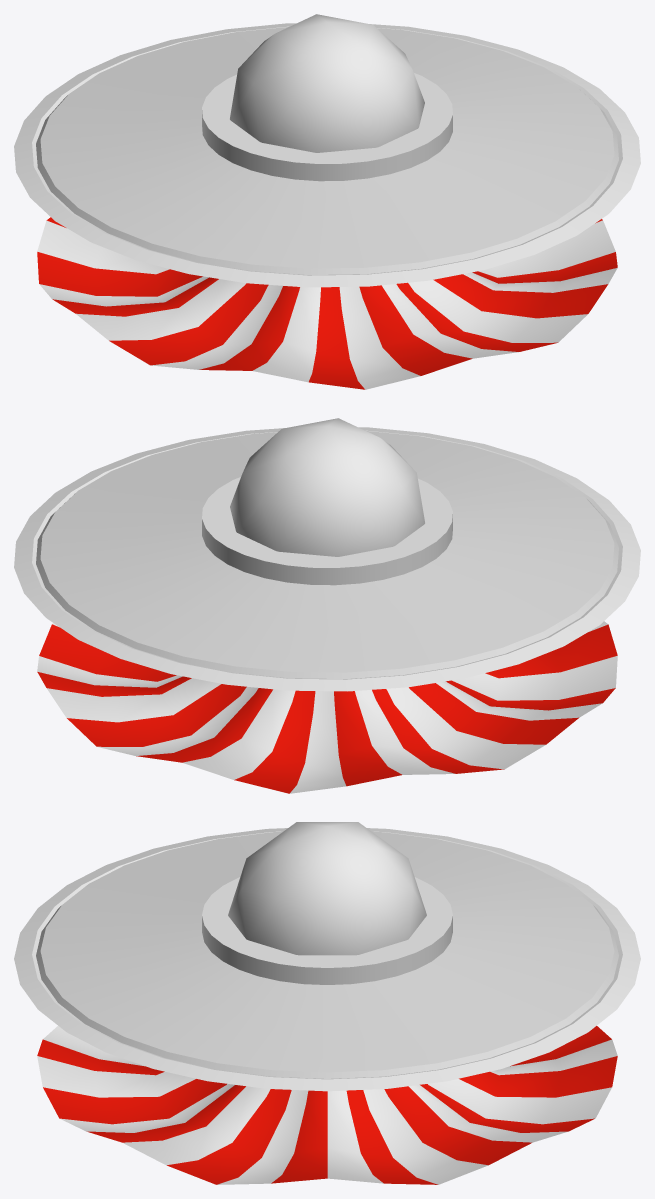
The model's file is UFO_Stand.fbx.
The picture shows the model from 3 angles, top to bottom: view 1: azimuth 30°, elevation 25°; view 2: azimuth 150°, elevation 25°; view 3: azimuth 270°, elevation 25°; orthographic projection.
Visible parts, largest first — view 1: Circle, Circle.001, Icosphere; view 2: Circle, Circle.001, Icosphere; view 3: Circle, Circle.001, Icosphere.
Part boxes in pixels (x1,y1,x2,y2): Circle: [14, 23, 640, 287]; Circle.001: [37, 217, 617, 389]; Icosphere: [230, 14, 424, 152]; Circle: [14, 427, 640, 691]; Circle.001: [37, 621, 617, 793]; Icosphere: [230, 418, 424, 556]; Circle: [14, 828, 640, 1091]; Circle.001: [37, 1026, 617, 1184]; Icosphere: [228, 822, 426, 955].
Bounding box in the file's own units: 1200 × 558 × 1200.
